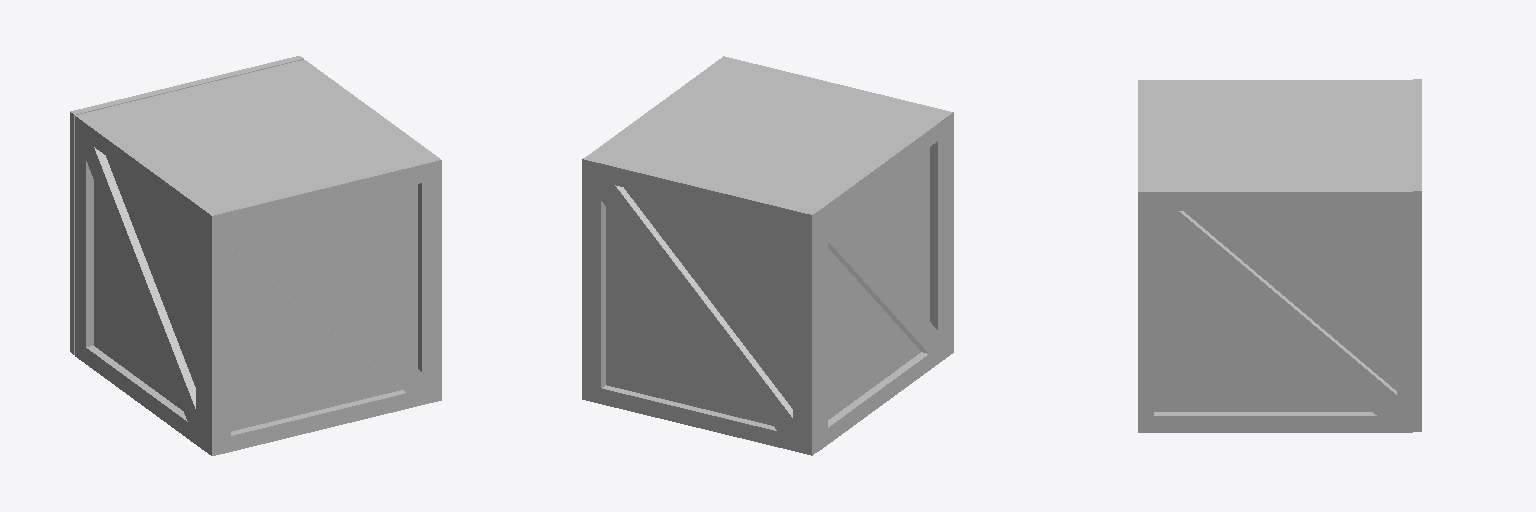
The model's file is Part Studio 1 - Part 1.obj.
3 renders of one model, left to right at view 1: azimuth 30°, elevation 25°; view 2: azimuth 150°, elevation 25°; view 3: azimuth 270°, elevation 25°, orthographic.
Parts seen in each view (by area): view 1: mesh6, mesh4, mesh10, mesh0, mesh17, mesh21, mesh25, mesh19, mesh24, mesh15, mesh16, mesh2 (+2 smaller); view 2: mesh6, mesh35, mesh43, mesh39, mesh17, mesh21, mesh25, mesh40, mesh20, mesh16, mesh15, mesh38 (+3 smaller); view 3: mesh6, mesh26, mesh34, mesh30, mesh13, mesh15, mesh32, mesh28.
Part boxes in pixels (bbox=[...]): mesh6: bbox=[75, 60, 440, 215]; mesh4: bbox=[212, 160, 441, 455]; mesh10: bbox=[245, 184, 417, 368]; mesh0: bbox=[231, 249, 401, 431]; mesh17: bbox=[75, 116, 211, 455]; mesh21: bbox=[106, 156, 195, 386]; mesh25: bbox=[94, 181, 182, 410]; mesh19: bbox=[94, 147, 195, 408]; mesh24: bbox=[86, 161, 93, 346]; mesh15: bbox=[70, 56, 303, 114]; mesh16: bbox=[70, 112, 73, 354]; mesh2: bbox=[231, 390, 405, 435]; mesh6: bbox=[588, 56, 952, 211]; mesh35: bbox=[582, 159, 811, 455]; mesh43: bbox=[624, 188, 792, 408]; mesh39: bbox=[606, 207, 772, 425]; mesh17: bbox=[817, 112, 953, 451]; mesh21: bbox=[836, 147, 929, 320]; mesh25: bbox=[828, 248, 920, 419]; mesh40: bbox=[615, 185, 792, 417]; mesh20: bbox=[930, 141, 937, 329]; mesh16: bbox=[812, 212, 816, 455]; mesh15: bbox=[583, 156, 815, 214]; mesh38: bbox=[601, 201, 605, 387]; mesh6: bbox=[1138, 80, 1412, 191]; mesh26: bbox=[1138, 192, 1412, 432]; mesh34: bbox=[1154, 228, 1371, 411]; mesh30: bbox=[1184, 211, 1396, 390]; mesh13: bbox=[1413, 191, 1421, 431]; mesh15: bbox=[1413, 79, 1421, 190]; mesh32: bbox=[1154, 412, 1376, 415]; mesh28: bbox=[1179, 211, 1396, 394].
Size of the model in its own units: 0.0763 by 0.0765 by 0.0813.